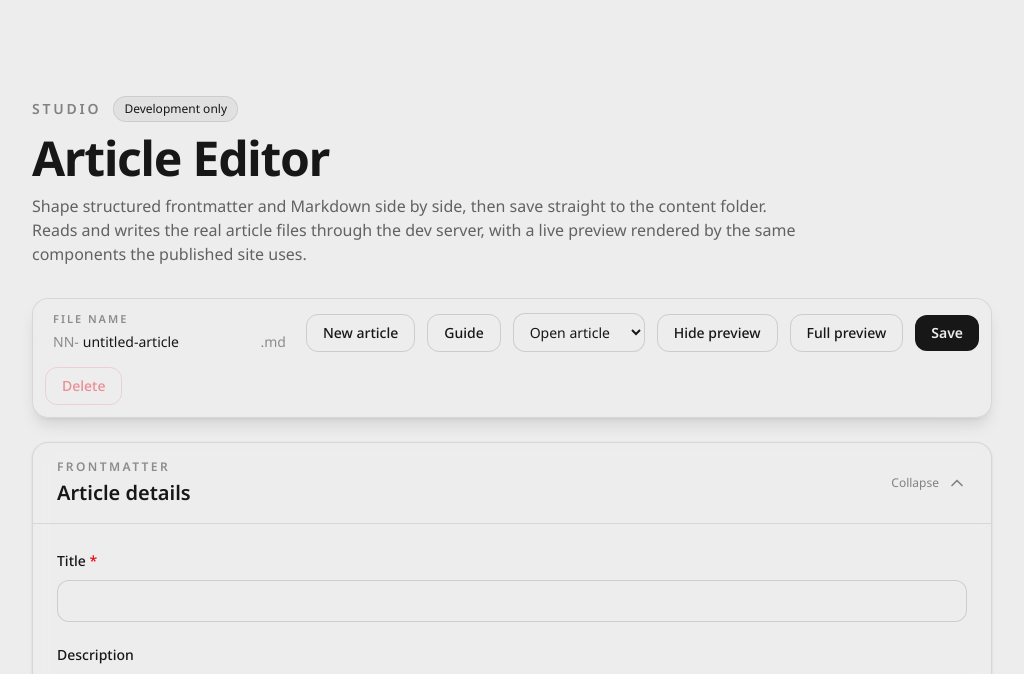
ArticleEditor › lets the author override the slug and reset it back to the title
Step 1. Type "My Title" into the field labelled "Title *" → [512, 600], box [57, 580, 967, 622]
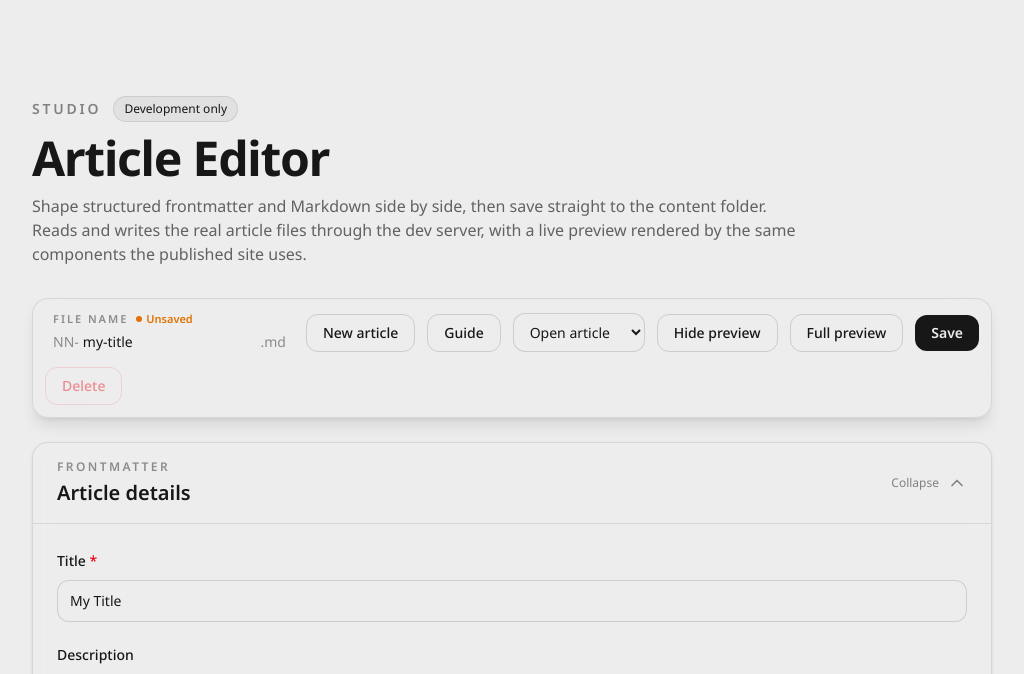
Step 2. Replace the text in the field named "File name slug" with "Custom Name" → [170, 342], box [83, 330, 256, 354]
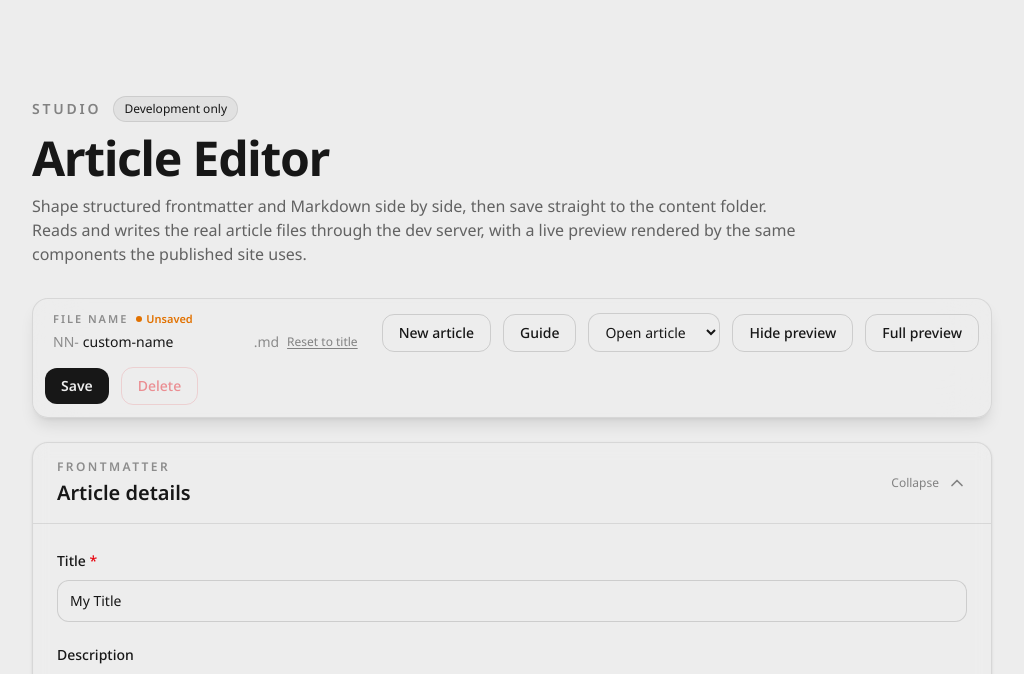
Check: the field named "File name slug" holds "custom-name", box [83, 330, 250, 354]
Step 3. Click the button "Reset to title" → [322, 342], box [283, 334, 362, 350]
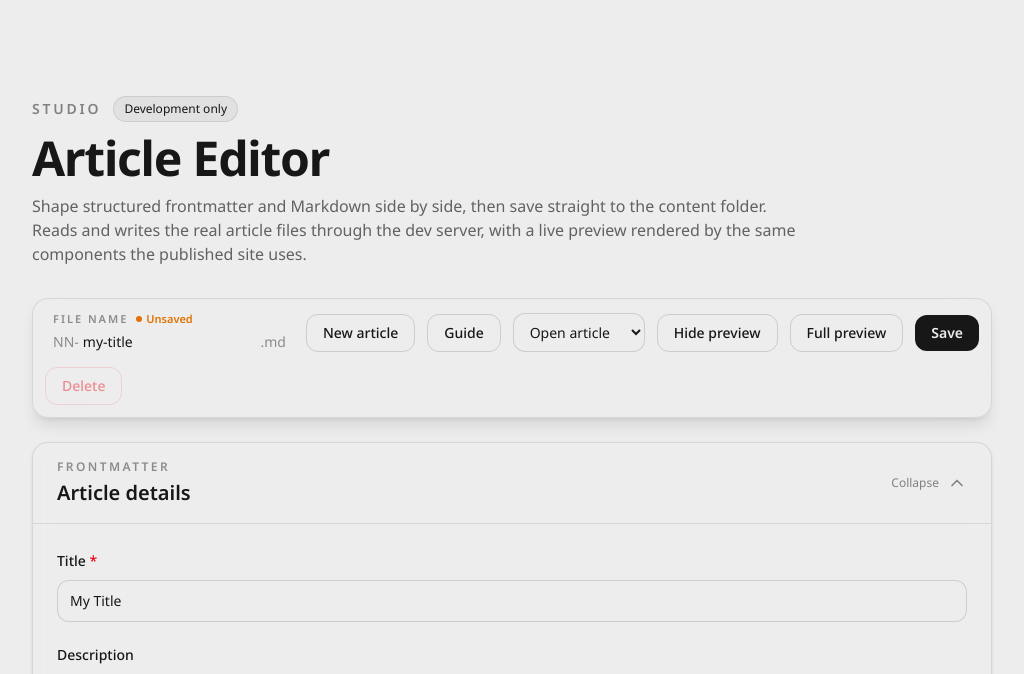
Check: the field named "File name slug" holds "my-title", box [83, 330, 256, 354]
